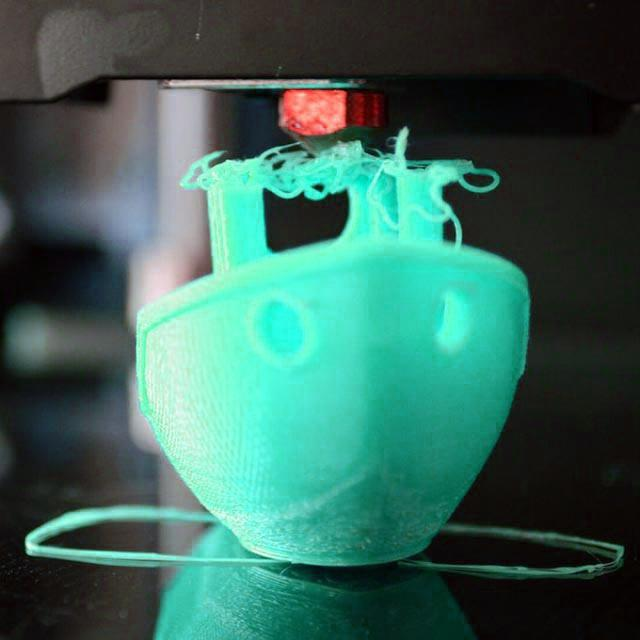Spaghetti: (180, 127, 504, 245)
